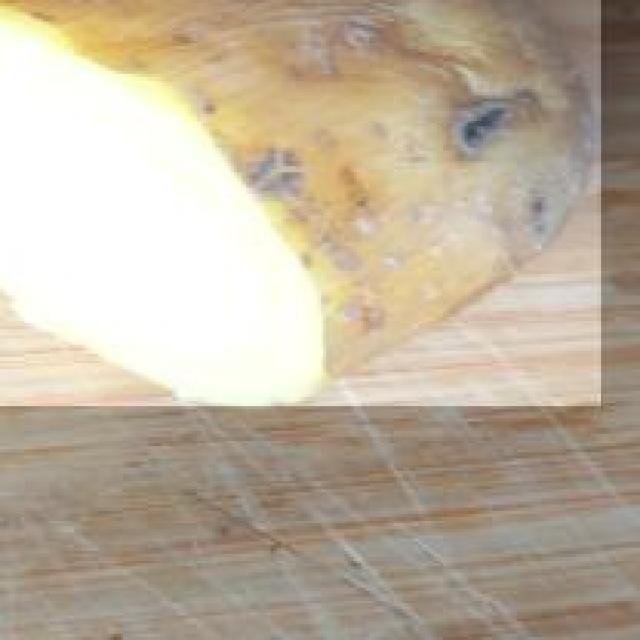potato: (0, 0, 600, 409)
